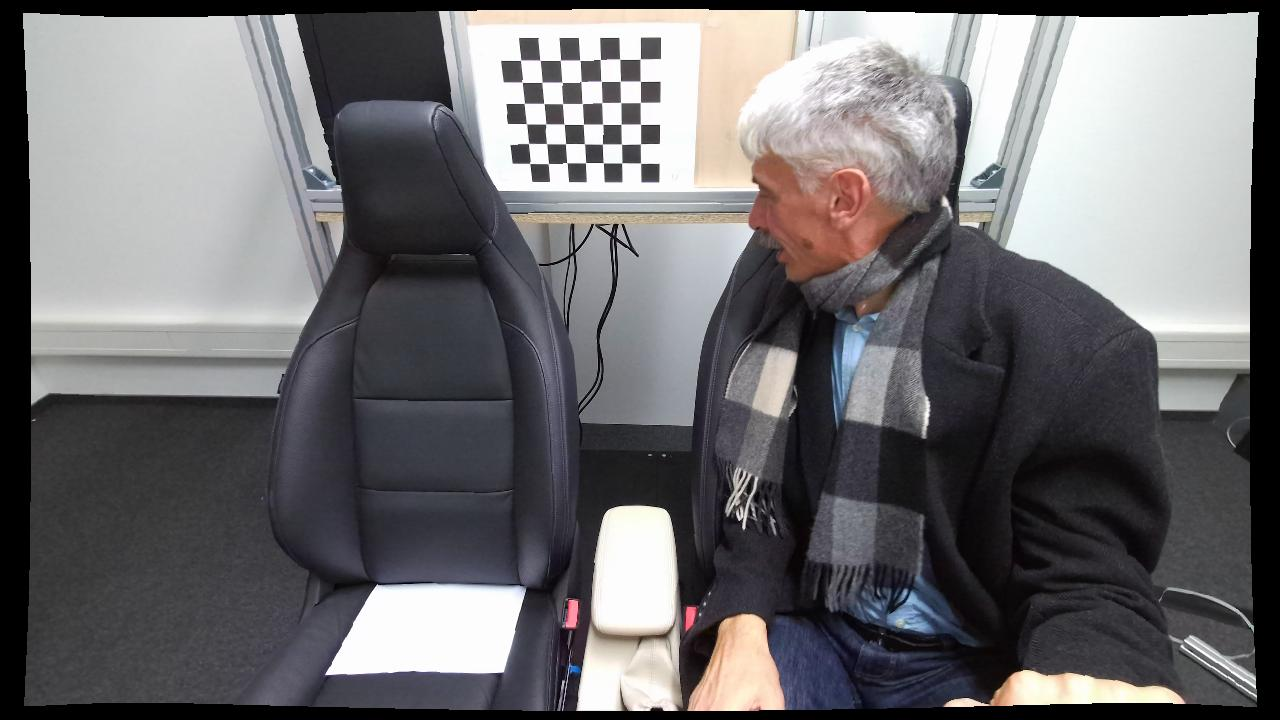Distracted: (686, 29, 1149, 715)
